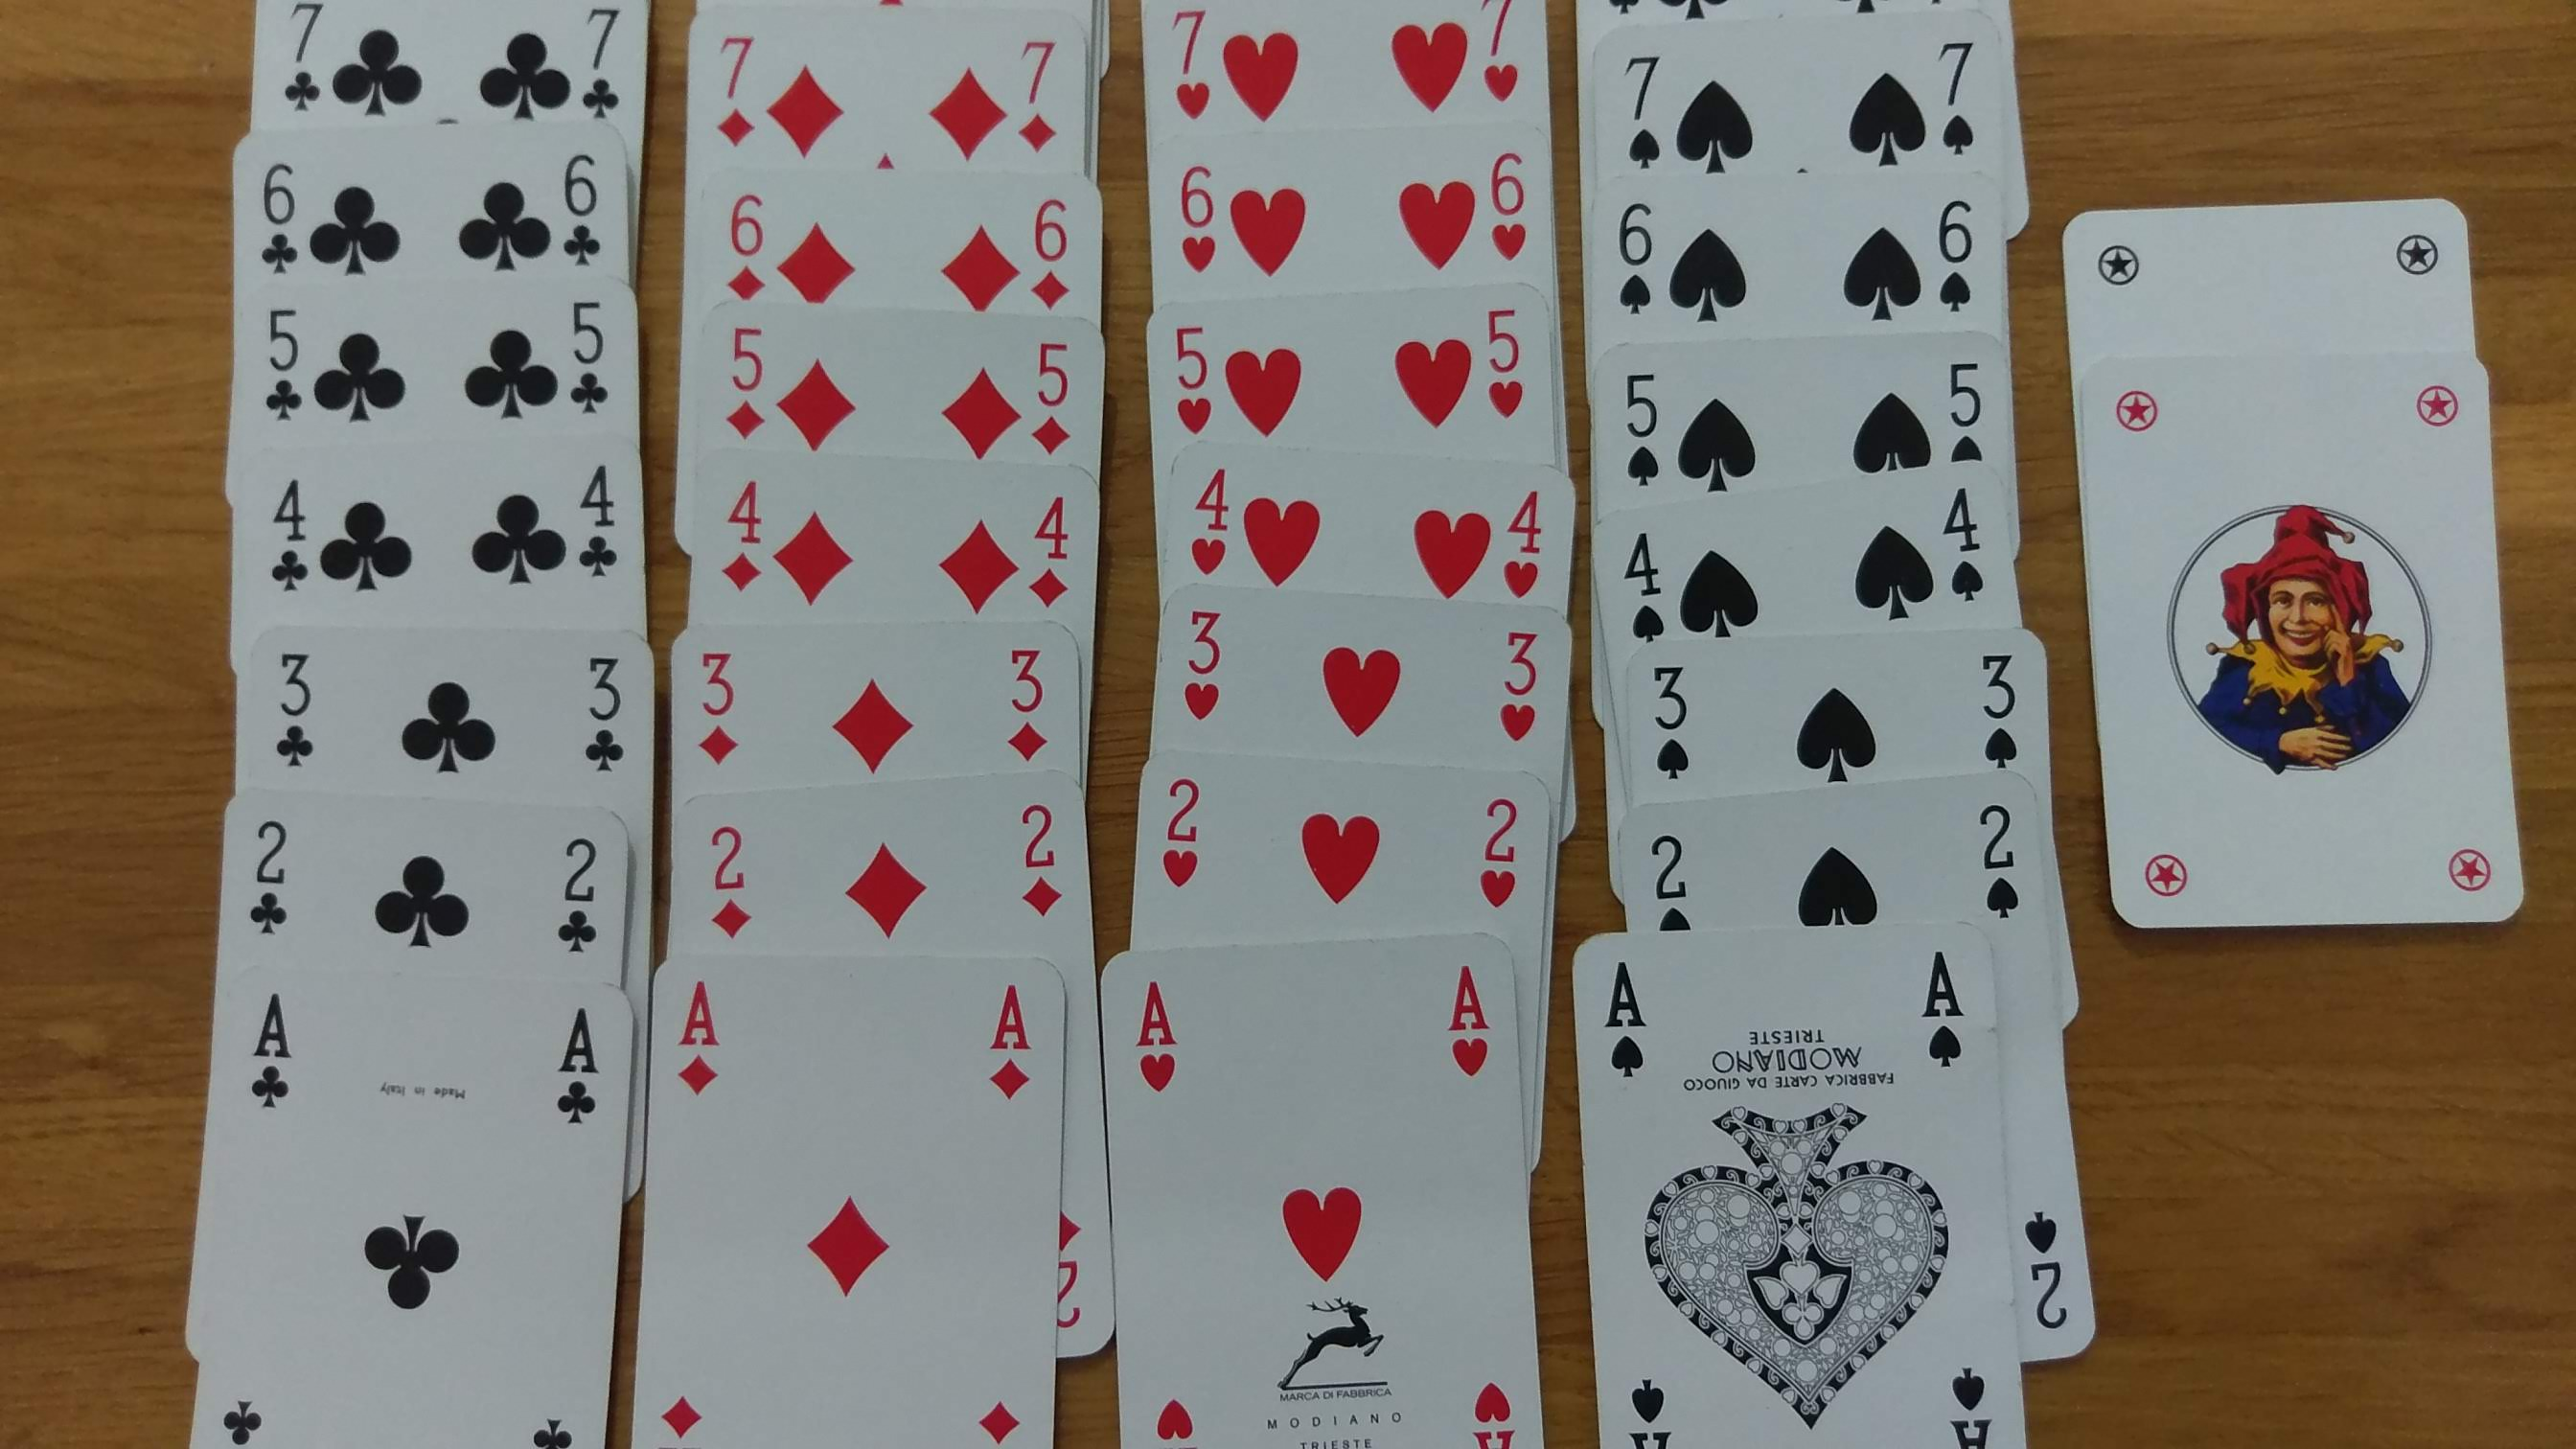1F: (242, 980, 313, 1143), (543, 993, 610, 1145)
2F: (241, 810, 318, 961), (545, 821, 614, 973)
3F: (257, 637, 347, 796), (563, 642, 649, 793)
4F: (249, 451, 324, 614), (566, 446, 628, 607)
5F: (554, 287, 626, 430), (249, 295, 326, 425)
6F: (548, 136, 621, 278), (257, 147, 308, 285)
7F: (580, 2, 644, 127), (276, 2, 331, 124)
